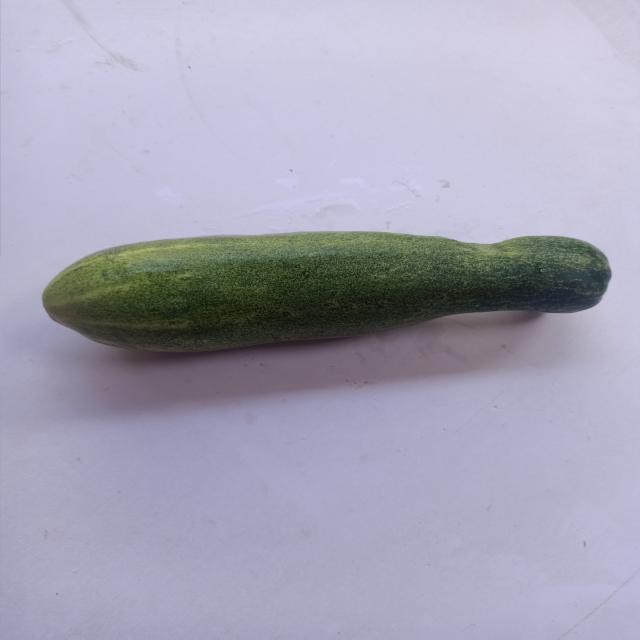Cucumber: (41, 231, 612, 352)
